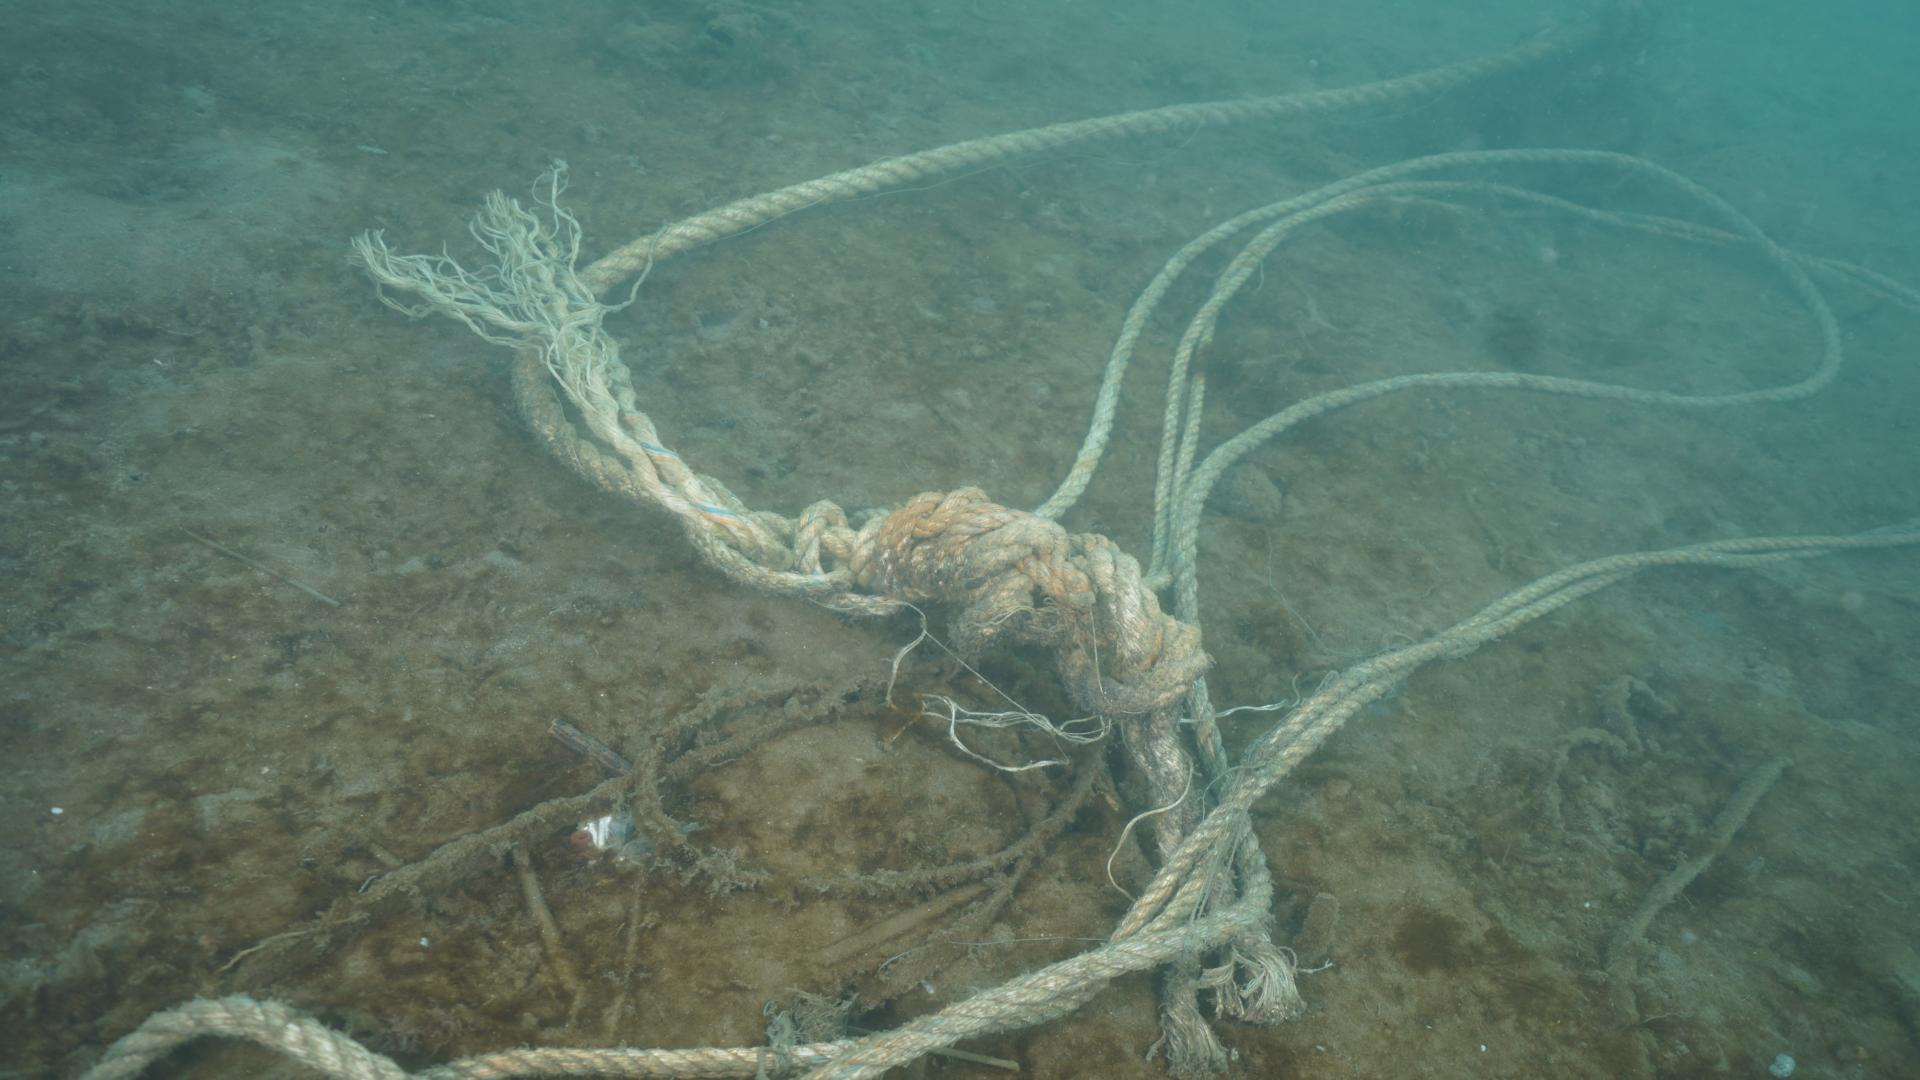bundle of ropes: (0, 0, 1913, 1080)
